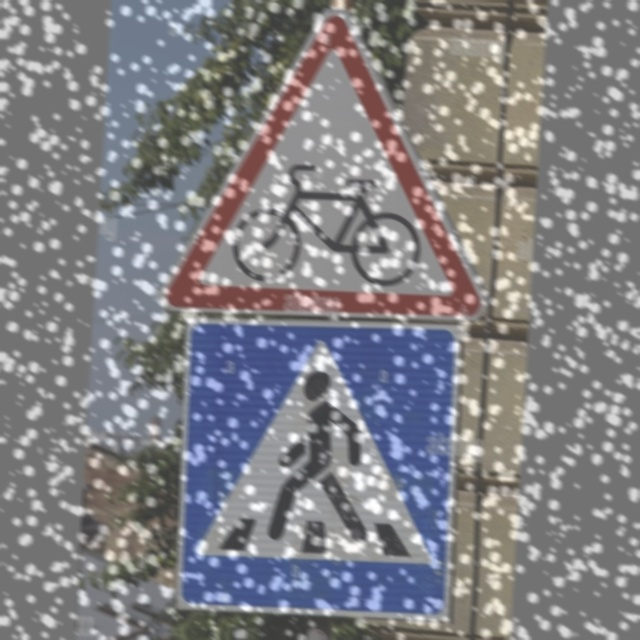Cycle_Crossing: (185, 13, 494, 318)
